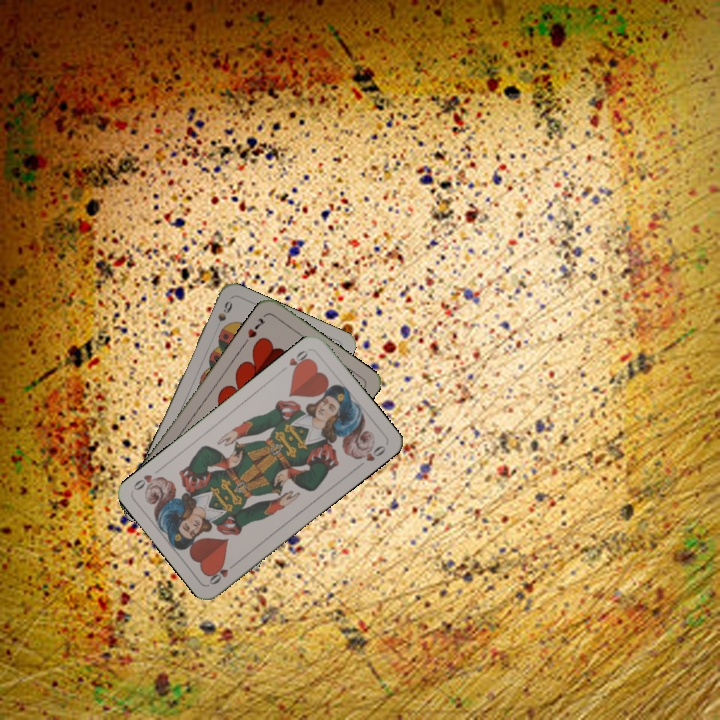H7: (243, 314, 268, 341)
HO: (205, 557, 240, 588), (285, 346, 313, 375)
S9: (212, 297, 235, 332)
